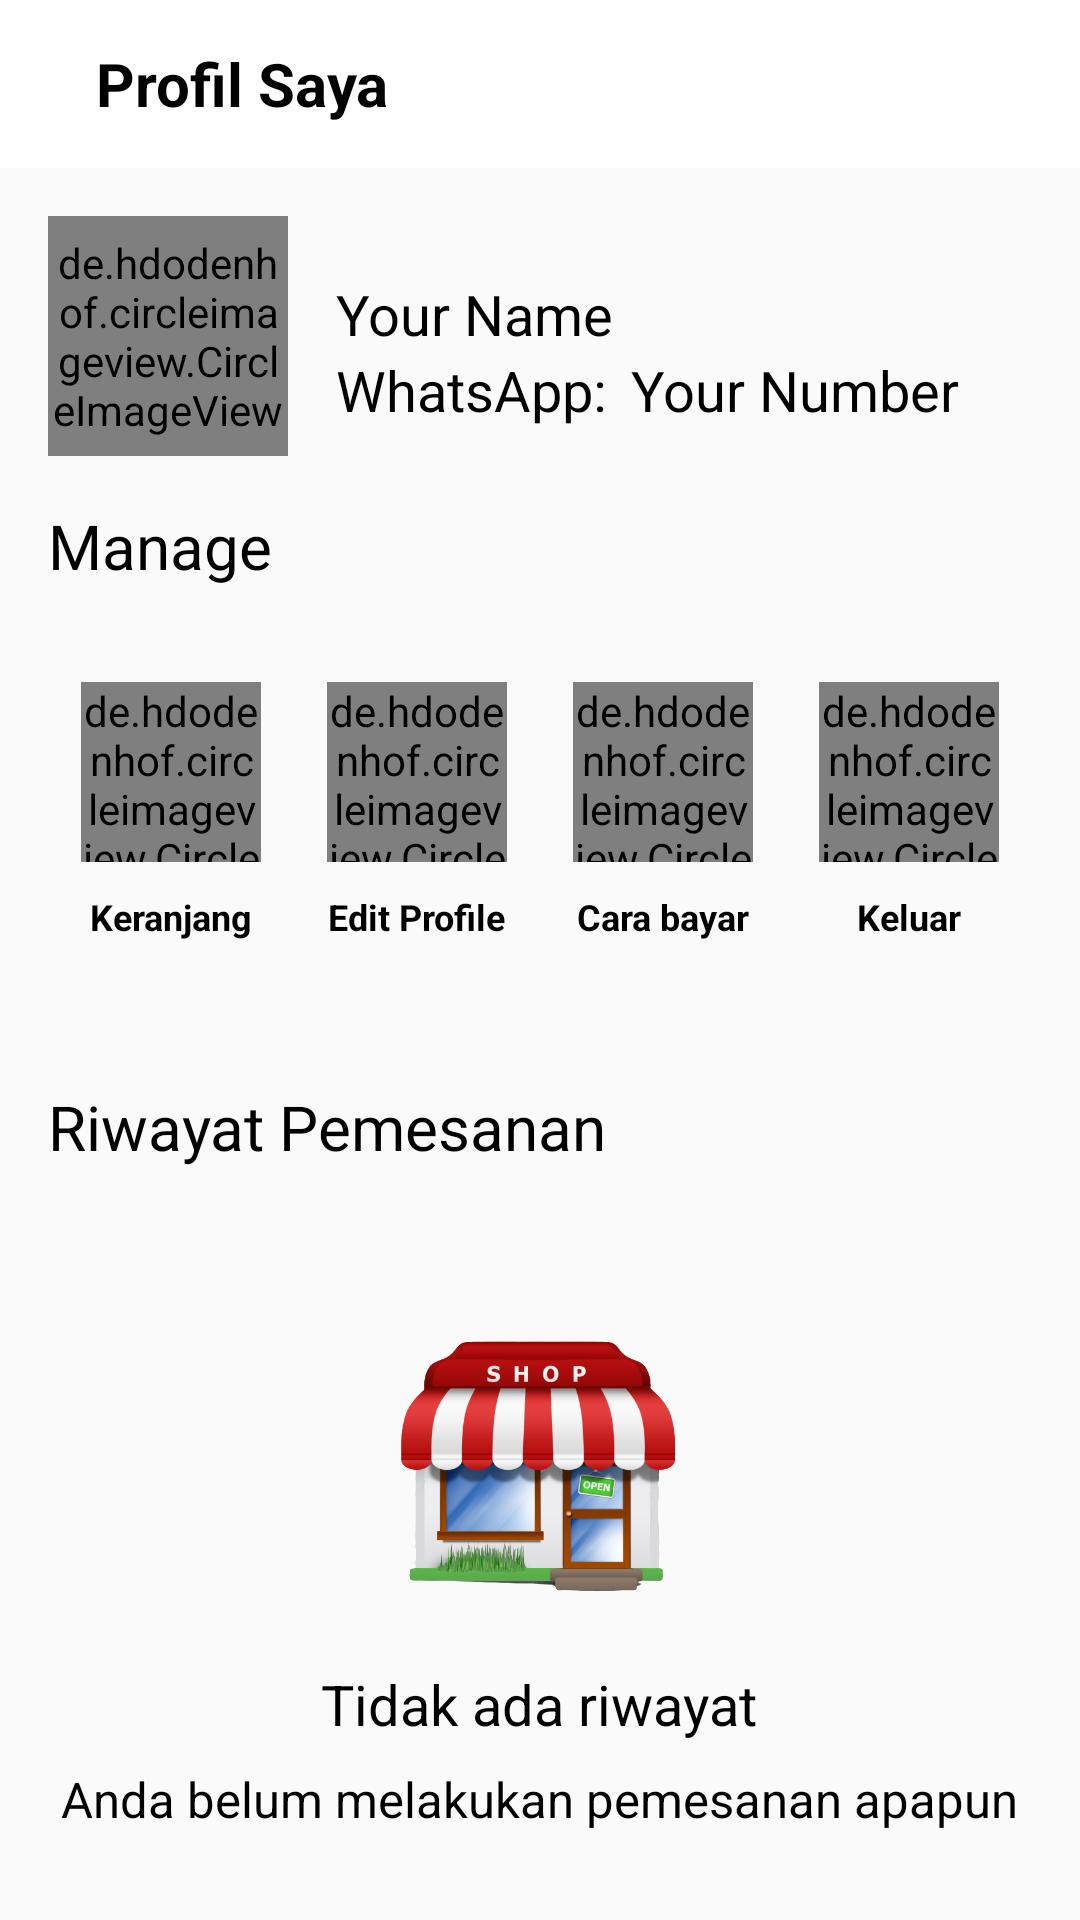

Icon bounding boxes for this 1080w x 1920h phone screenshot, format [left=x1, top=y1, right=x2, bottom=y2]:
market: [left=401, top=1341, right=676, bottom=1591]
